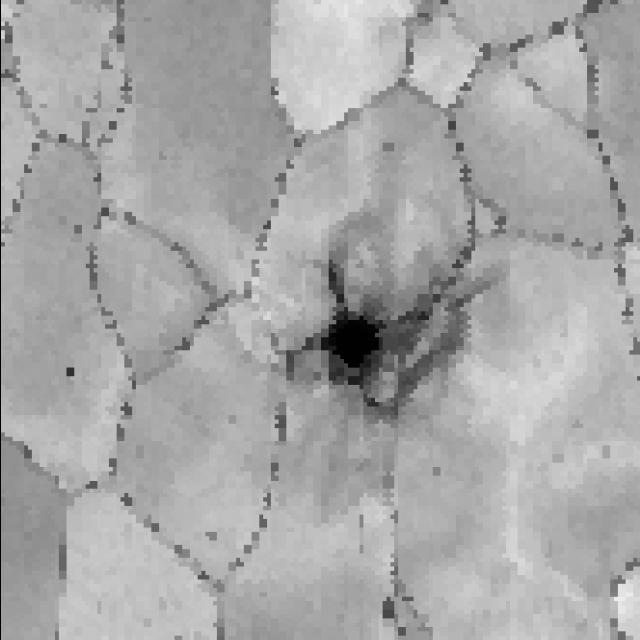good_void: (263, 245, 505, 425), (376, 591, 400, 625), (62, 364, 80, 382), (377, 140, 398, 155), (71, 224, 86, 236)
